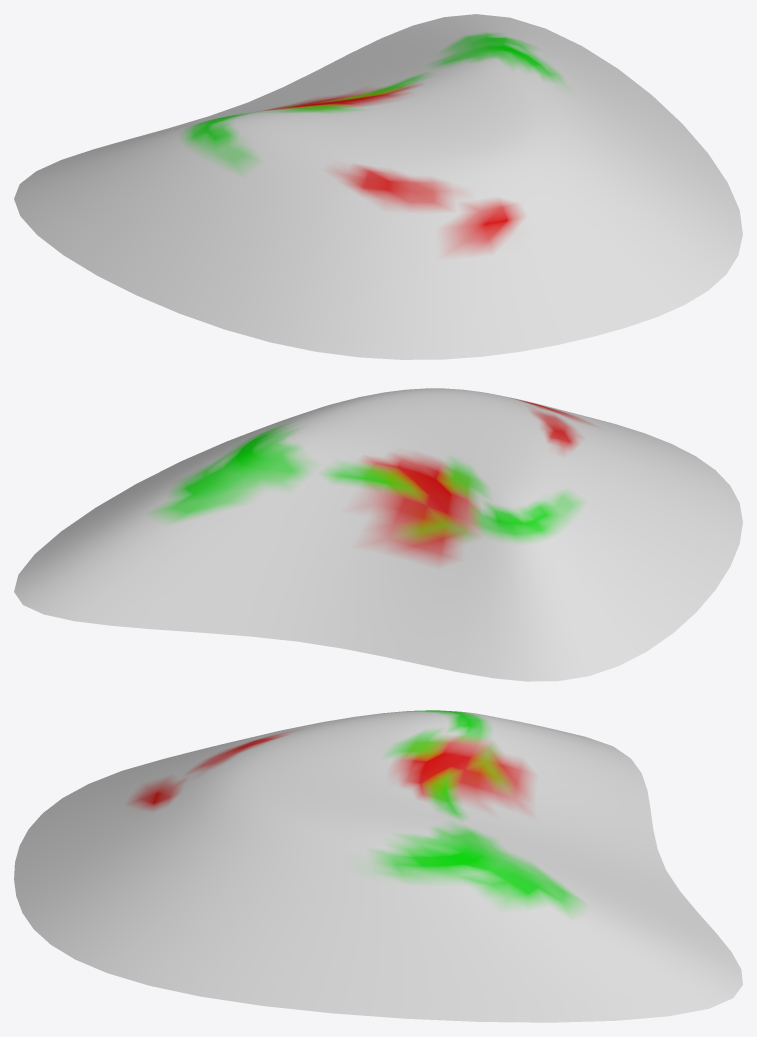
Rendered from Terrain_04.fbx.
The picture shows the model from 3 angles, top to bottom: view 1: azimuth 30°, elevation 25°; view 2: azimuth 150°, elevation 25°; view 3: azimuth 270°, elevation 25°; orthographic projection. The views are drawn at different scales.
Visible parts, largest first — view 1: Terrain_04; view 2: Terrain_04; view 3: Terrain_04.
Part boxes in pixels (left/top/right/bottom): Terrain_04: left=14, top=14, right=742, bottom=359; Terrain_04: left=14, top=388, right=742, bottom=681; Terrain_04: left=14, top=710, right=742, bottom=1022.
Size of the model in its own units: 36.33 by 5.96 by 37.81.
